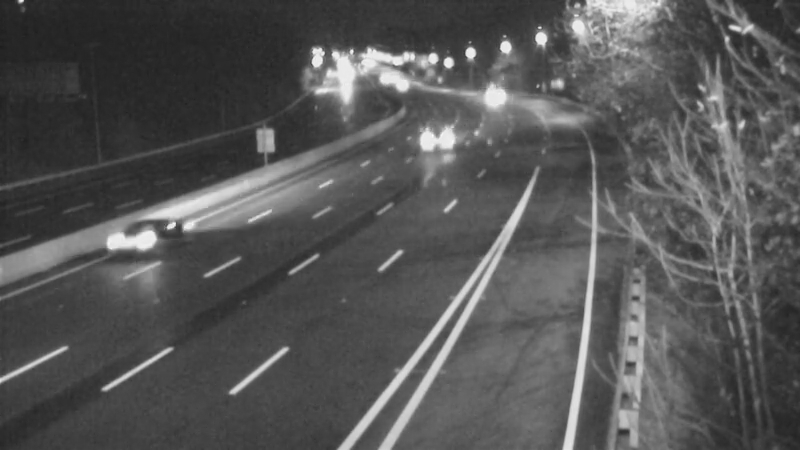vehicle: (95, 200, 175, 280), (357, 58, 407, 108), (378, 60, 428, 110), (464, 67, 514, 117), (418, 108, 468, 158)
